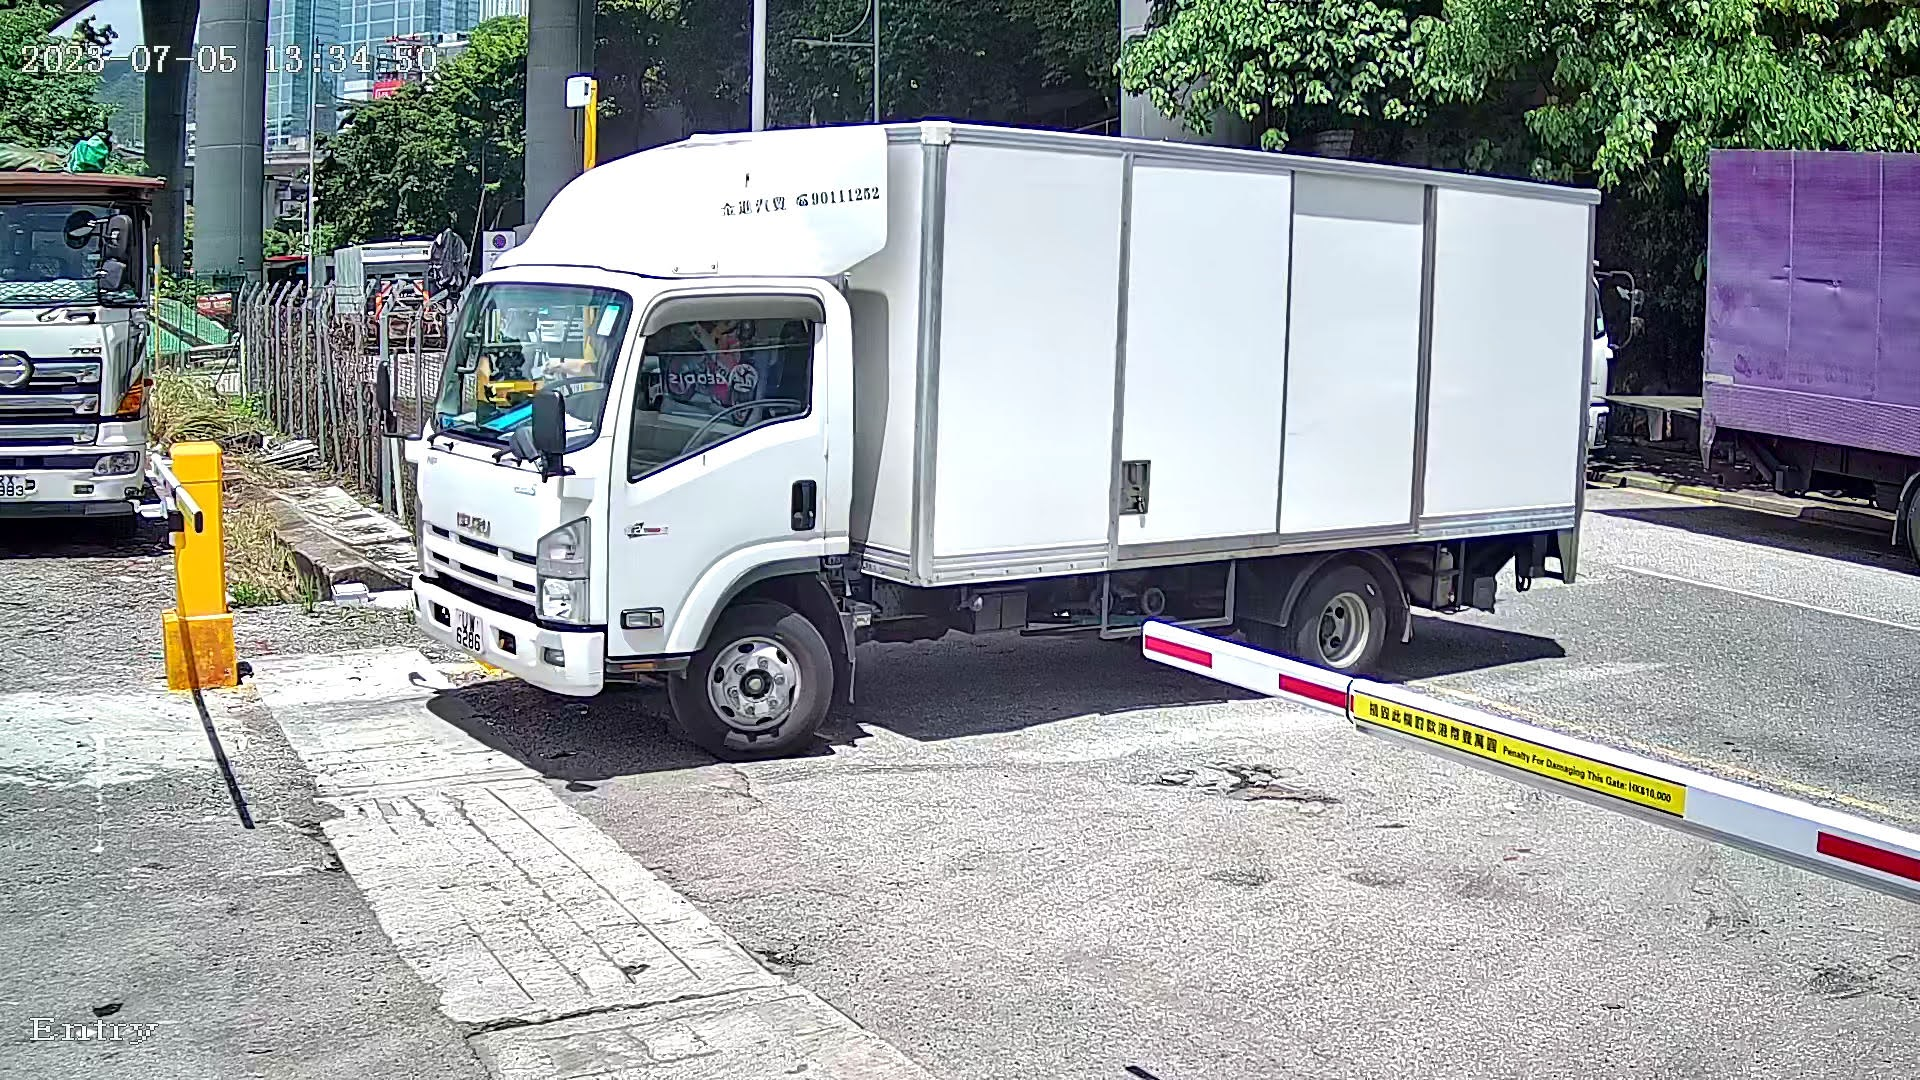truck_small: (375, 69, 1665, 791)
